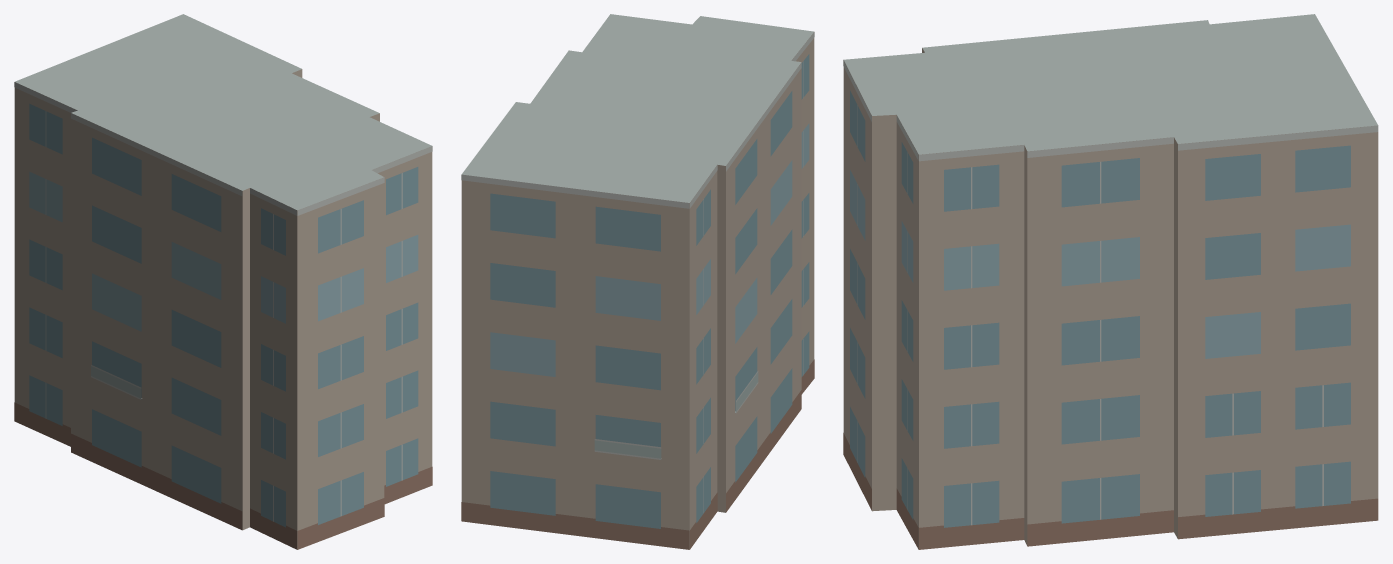
File: survey-upis-32918464.glb
The picture shows the model from 3 angles, left to right: view 1: azimuth 30°, elevation 25°; view 2: azimuth 150°, elevation 25°; view 3: azimuth 270°, elevation 25°; orthographic projection. The views are drawn at different scales.
Parts seen in each view (by area): view 1: survey-upis-32918464.tmp; view 2: survey-upis-32918464.tmp; view 3: survey-upis-32918464.tmp.
Boxes of the visible parts, box(x1,y1,x2,y2) form: survey-upis-32918464.tmp: box(14, 14, 432, 549); survey-upis-32918464.tmp: box(461, 14, 814, 549); survey-upis-32918464.tmp: box(843, 14, 1378, 549).
Size of the model in its own units: 11.16 by 14.6 by 17.92.
